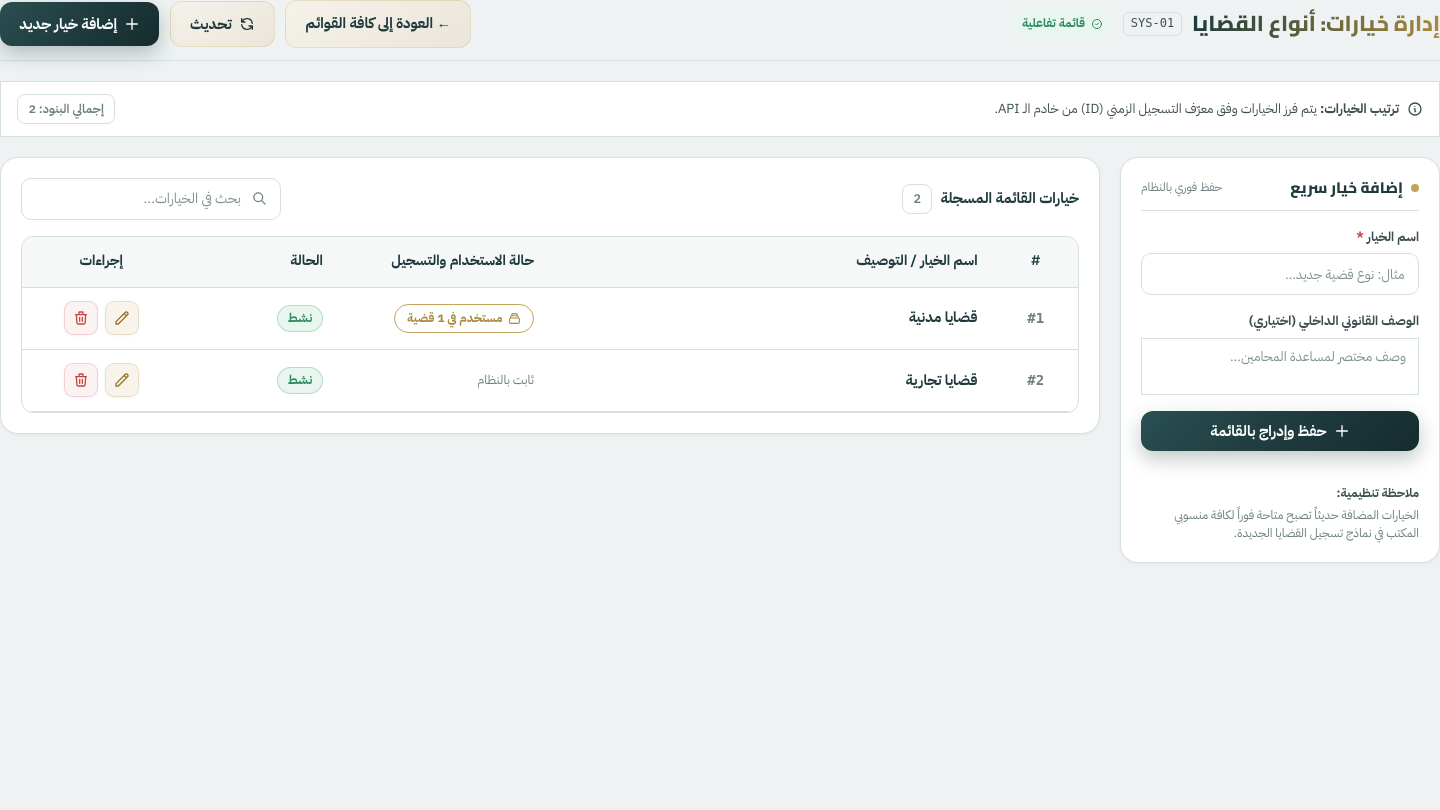
Manage Lists Feature Tests › ListDetailPage (CRUD and Validation) › shows reference warning in Delete modal when item is linked to a case
Check: the text "قضايا مدنية" is shown, box [909,306,978,328]
// Type 1 is referenced in sampleCases (type_id: 1)
Click the button titled "حذف هذا الخيار" in the row of "قضايا مدنية": (81, 318) [64,301,98,335]
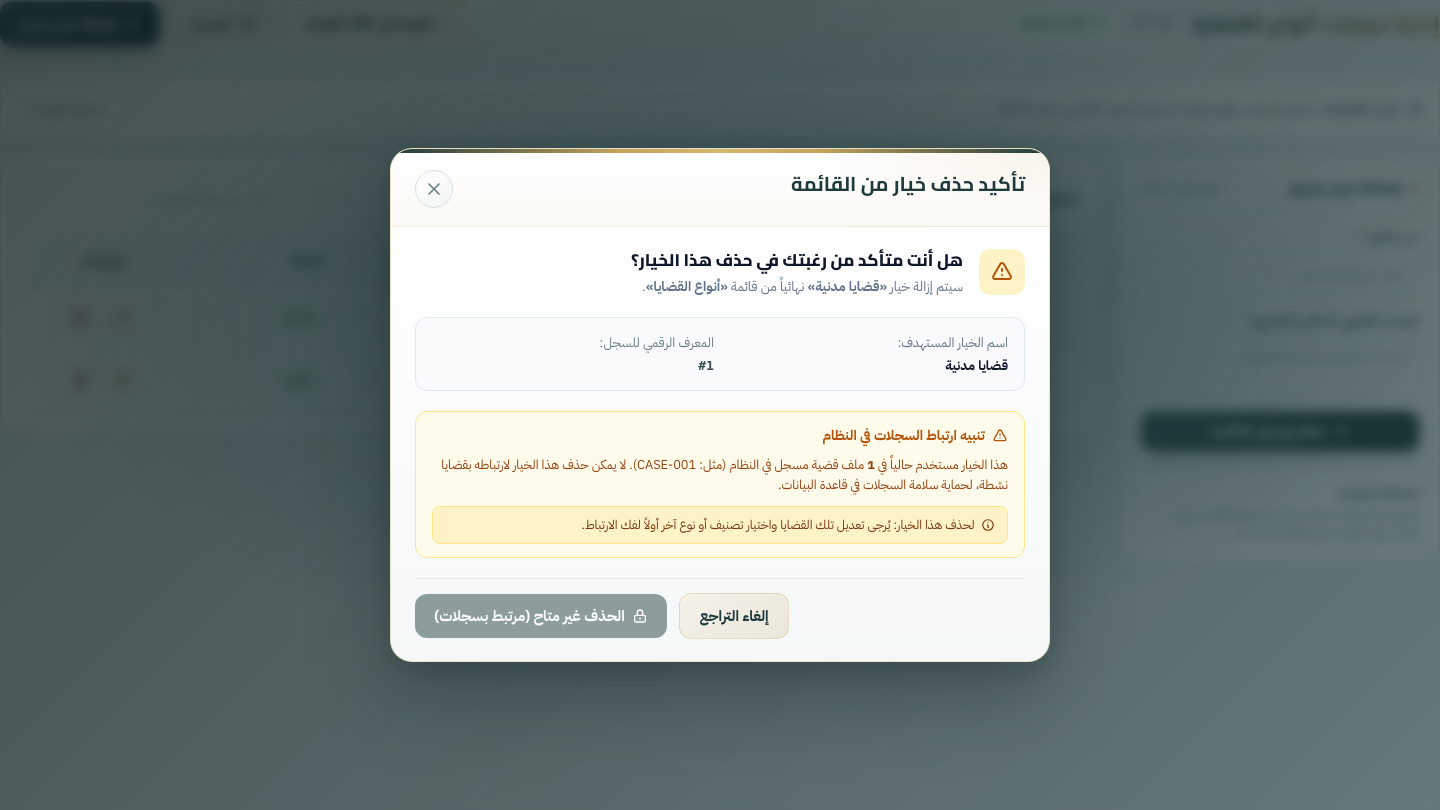
Check: the heading "تأكيد حذف خيار من القائمة" is shown, box [791,170,1025,197]
Check: the text "تنبيه ارتباط السجلات في النظام" is shown, box [822,425,985,447]
Check: the text "هذا الخيار مستخدم حالياً في" is shown, box [875,455,1008,474]
